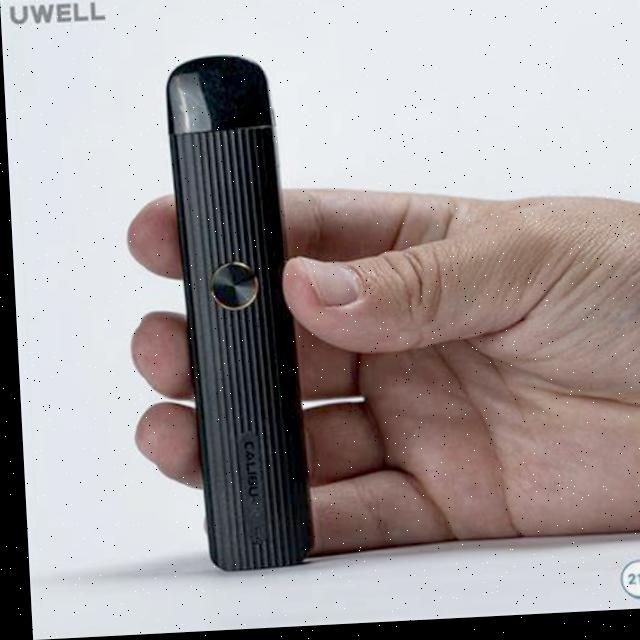vape: (162, 51, 311, 579)
